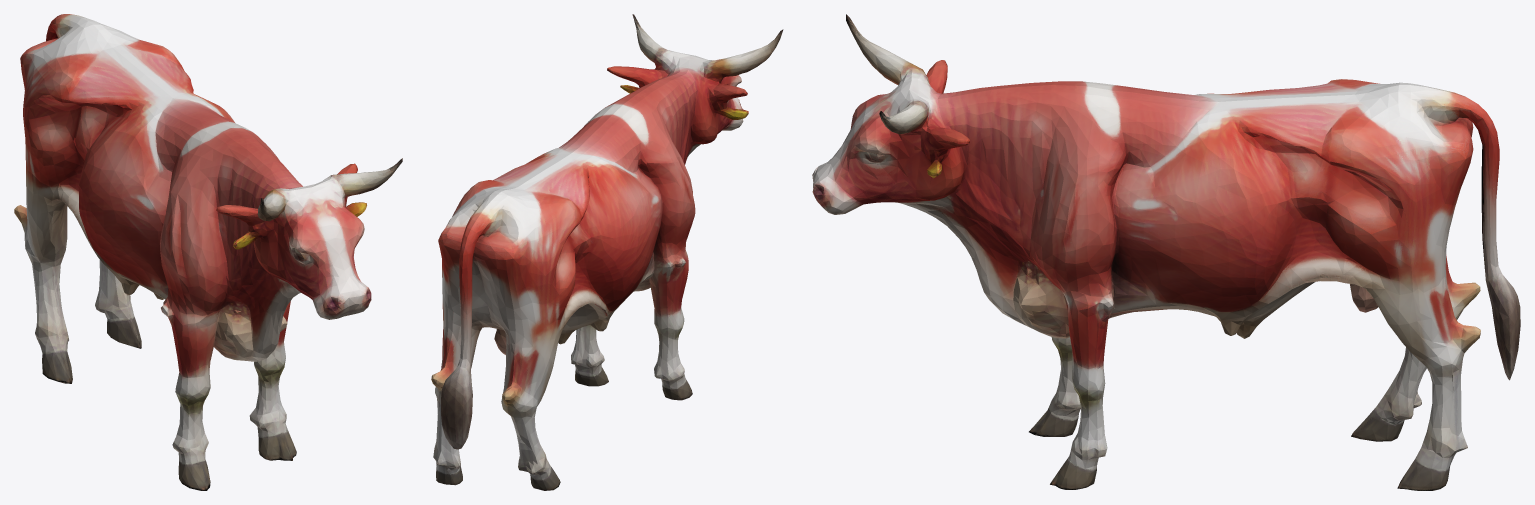
Rendered from cow.glb.
The picture shows the model from 3 angles, left to right: view 1: azimuth 30°, elevation 25°; view 2: azimuth 150°, elevation 25°; view 3: azimuth 270°, elevation 25°; orthographic projection. The views are drawn at different scales.
Visible parts, largest first — view 1: geometry_0; view 2: geometry_0; view 3: geometry_0.
Part boxes in pixels (left/top/right/bottom): geometry_0: left=14, top=14, right=402, bottom=490; geometry_0: left=431, top=14, right=783, bottom=490; geometry_0: left=812, top=14, right=1520, bottom=490.
Size of the model in its own units: 0.2938 by 0.6314 by 0.9988.
1 material, 1 textured.
